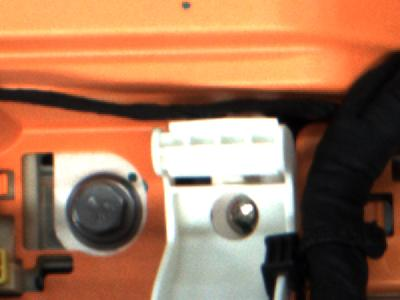nut_b: (63, 169, 144, 248)
